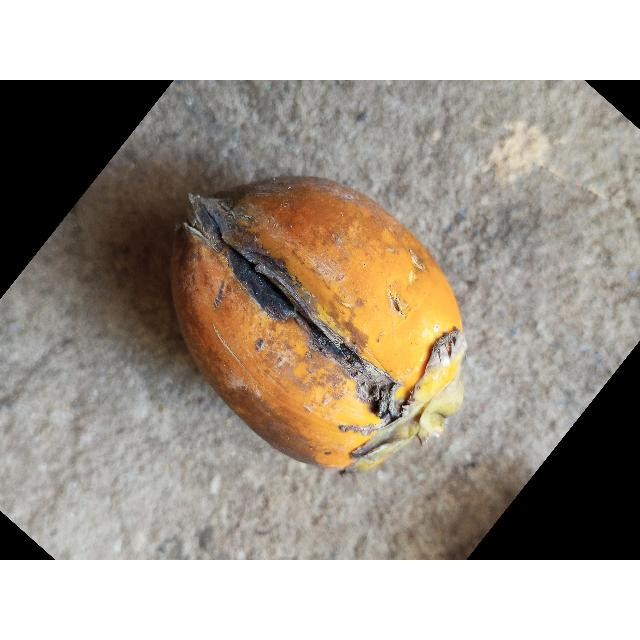damaged: (172, 177, 466, 471)
